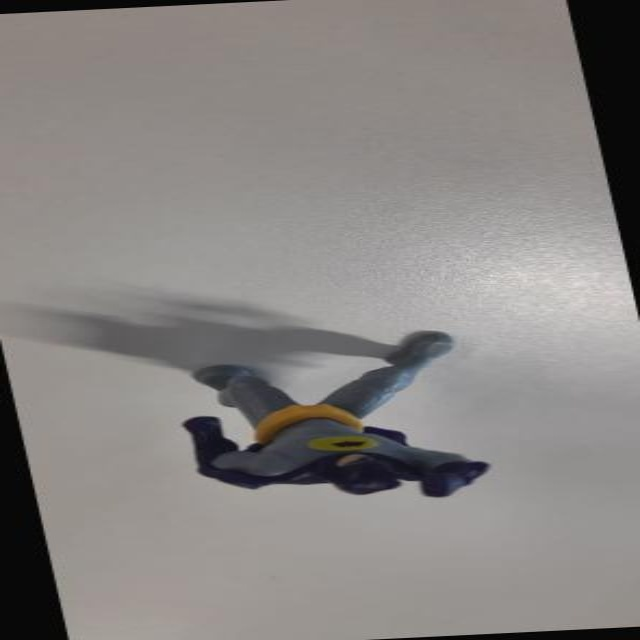Batman: (150, 326, 516, 515)
